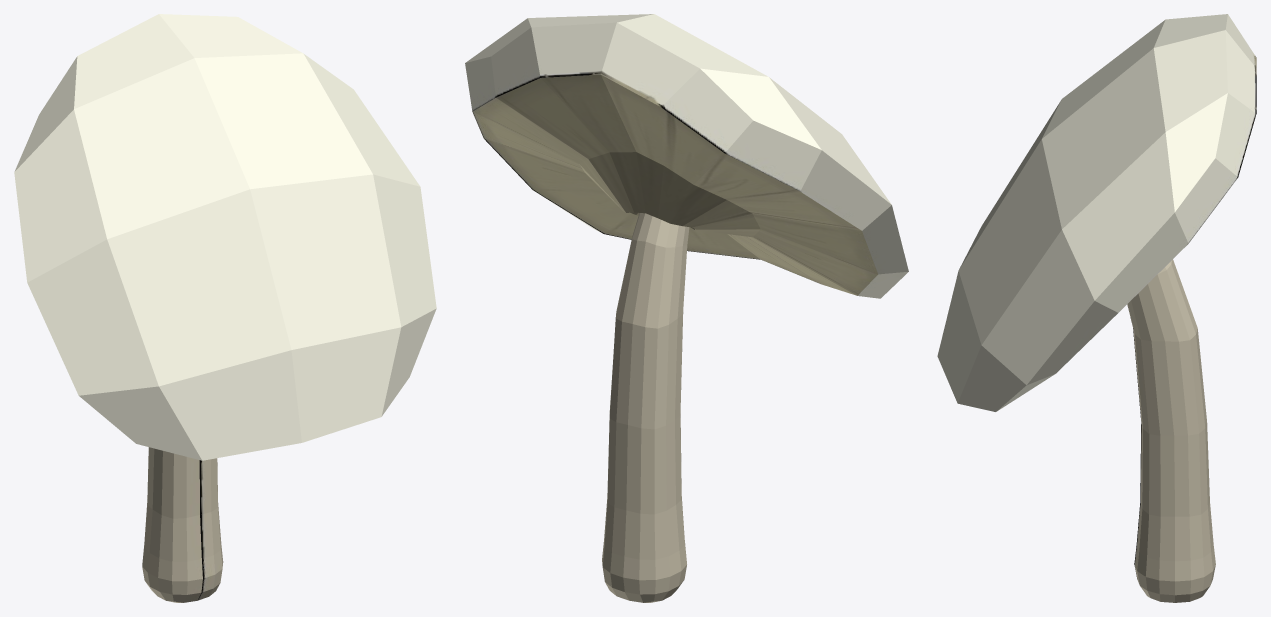
Rendered from MushGuard_Small.fbx.
3 renders of one model, left to right at view 1: azimuth 30°, elevation 25°; view 2: azimuth 150°, elevation 25°; view 3: azimuth 270°, elevation 25°, orthographic. The views are drawn at different scales.
Visible parts, largest first — view 1: Smaller Mush; view 2: Smaller Mush; view 3: Smaller Mush.
Boxes of the visible parts, x1,y1,x2,y2 form: Smaller Mush: [14, 14, 436, 602]; Smaller Mush: [465, 14, 908, 602]; Smaller Mush: [937, 14, 1256, 602].
Size of the model in its own units: 8.47 by 5.91 by 11.58.
